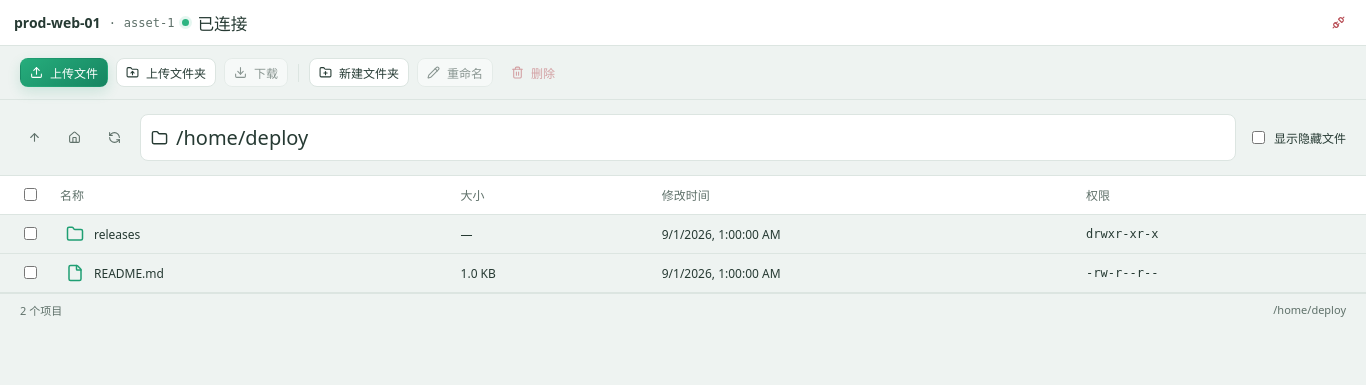
双击名称单元格只进入一次文件夹，双击文件不进入目录
Double-click the button with aria-label "打开 README.md" at [115, 273], box [60,263,170,283]
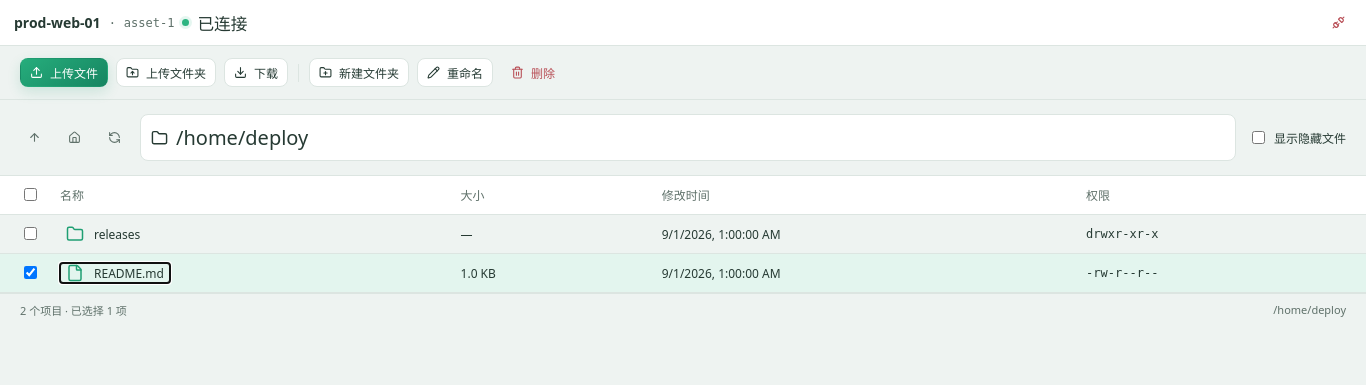
Check: the checkbox named "选择 README.md" is checked, box [24,266,37,279]
Double-click the cell named "打开 releases" at [240, 234], box [40,214,440,254]
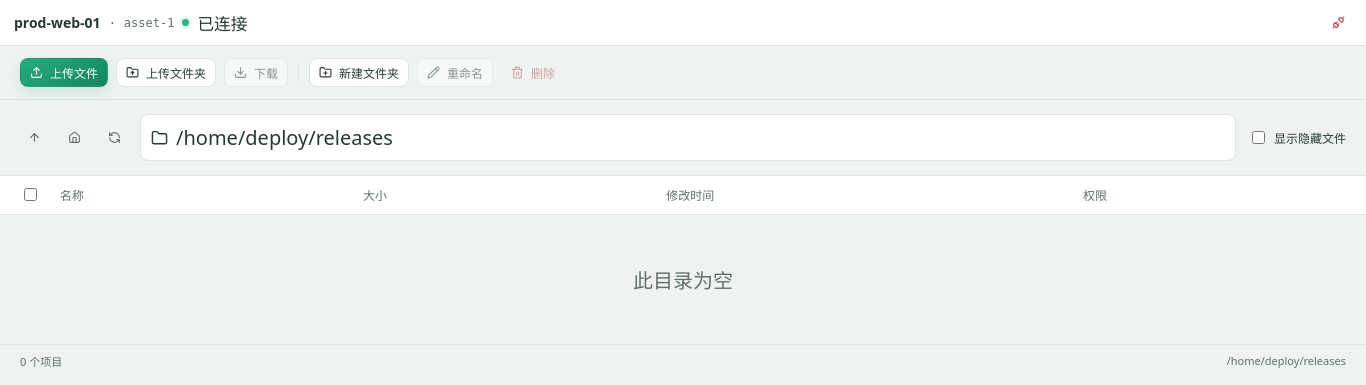
Check: the text "此目录为空" is shown, box [633,267,733,294]
Check: the field named "远程路径" holds "/home/deploy/releases", box [176,115,1225,160]
